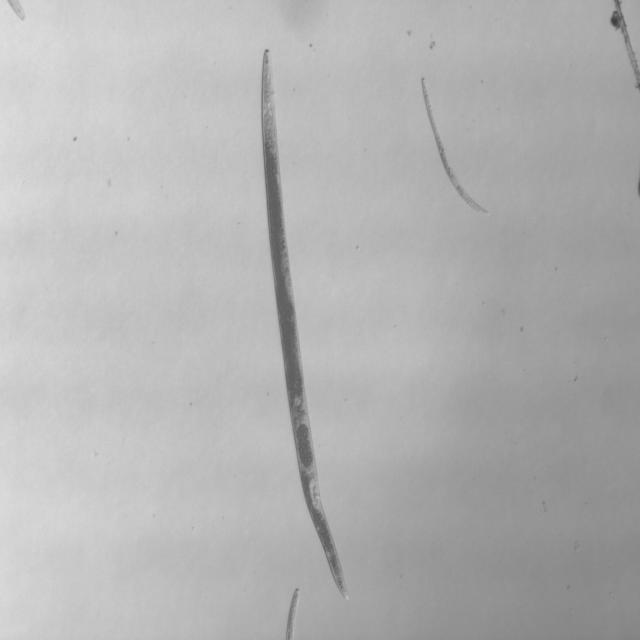Pratylenchus: (261, 38, 353, 605)
